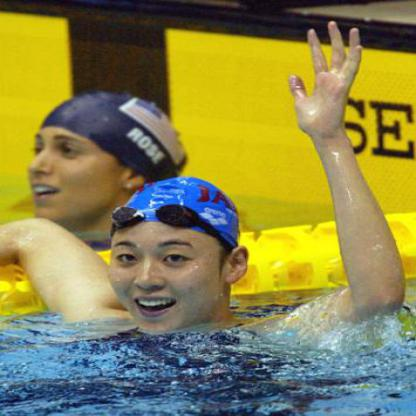face: (108, 180, 229, 336), (20, 91, 133, 224)
